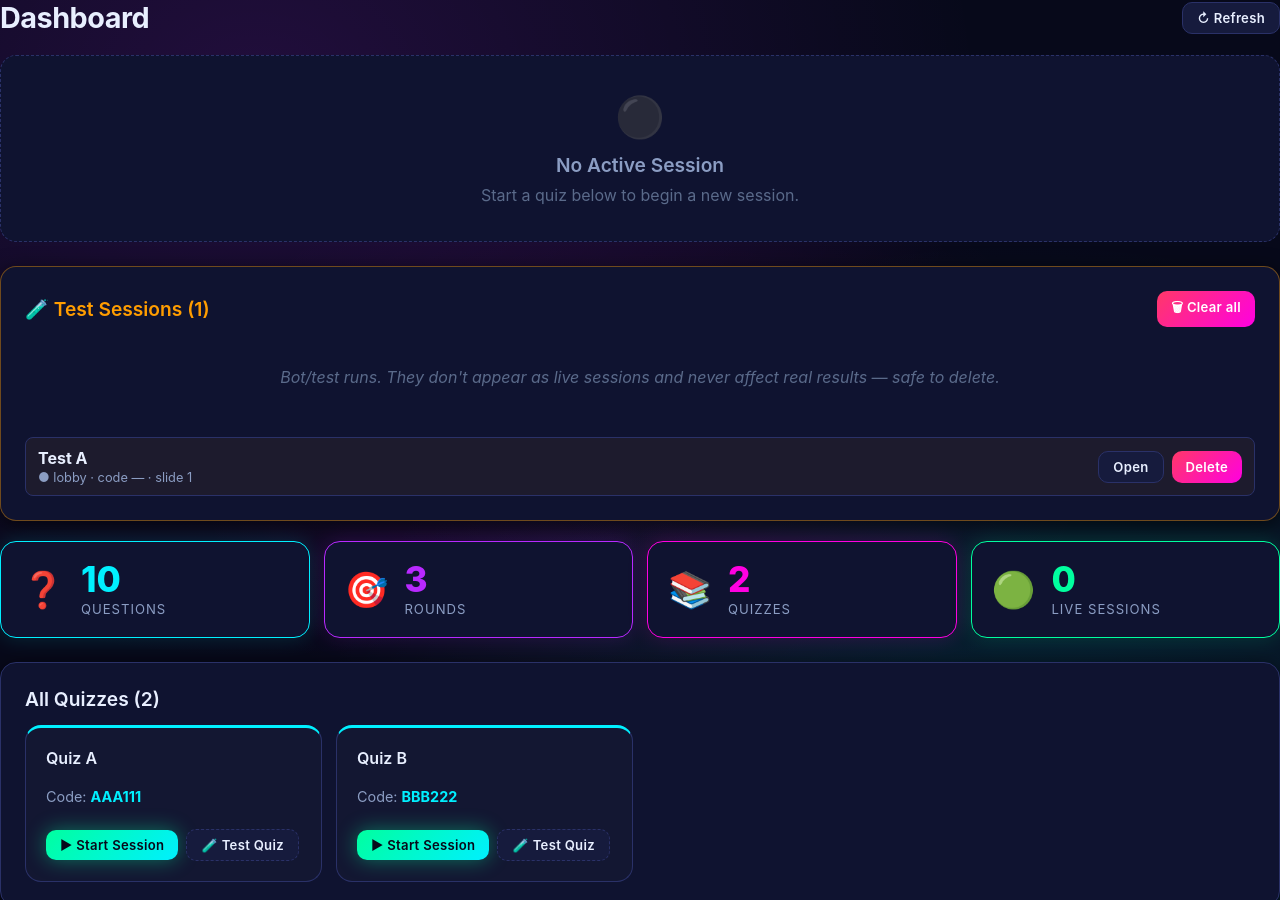
Test: Dashboard › lists and deletes test sessions
Expected: the text "Test A" is shown, [38, 448, 88, 468]
Step 1. Click the button "Delete" → (1207, 466), box [1172, 450, 1242, 482]
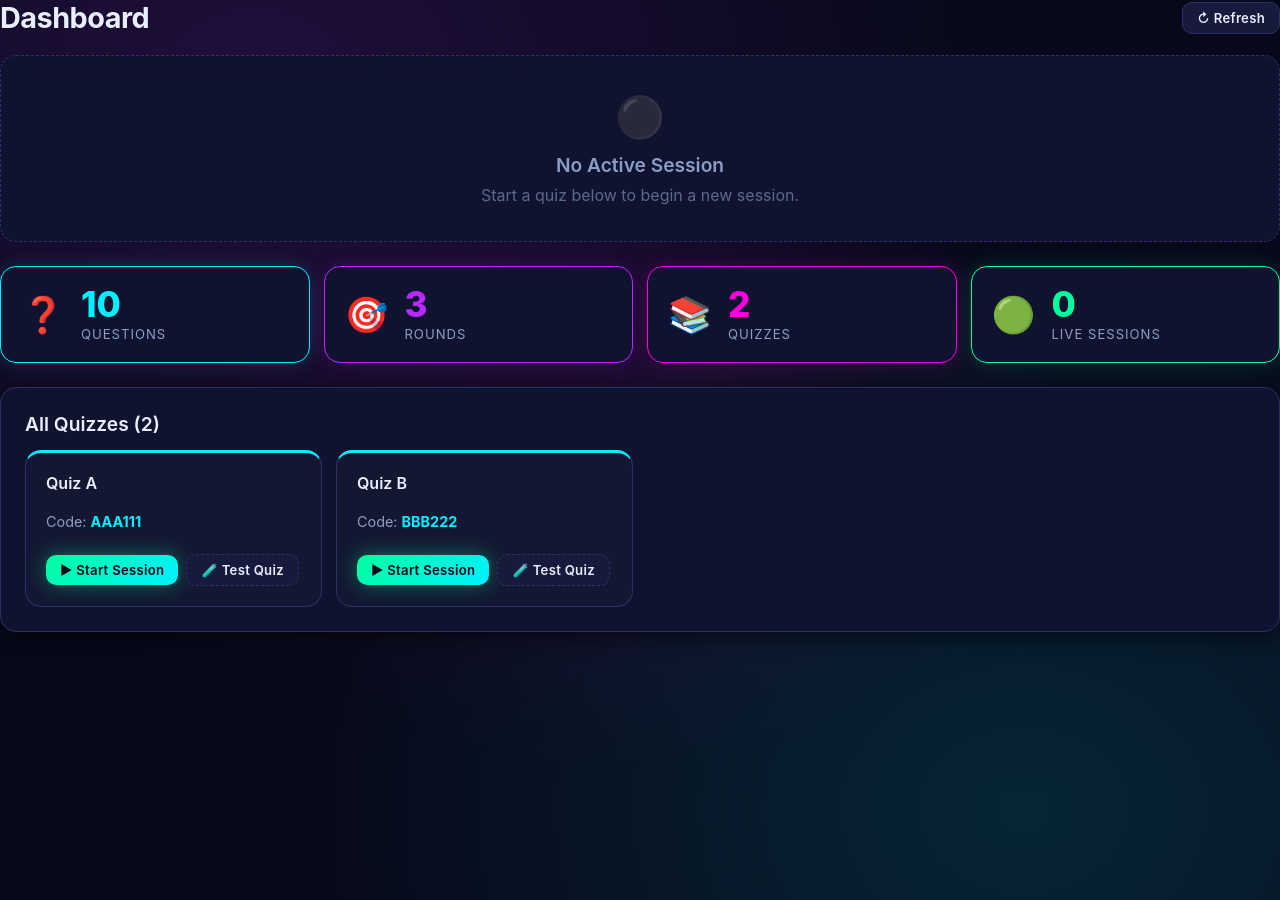
Now the text "Test A" is gone
